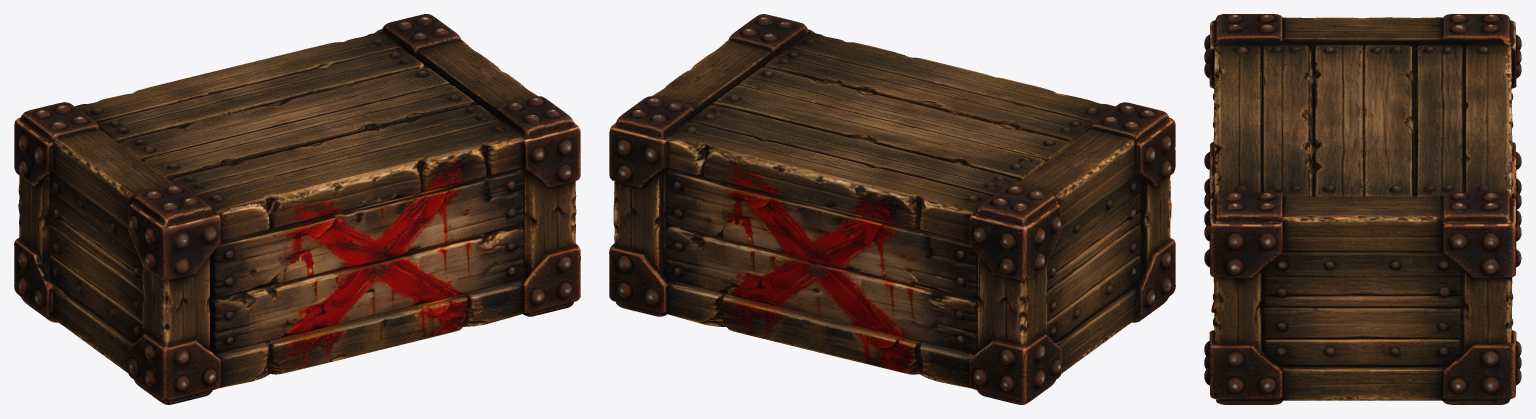
Rendered from intact_split.glb.
3 views of the same model, side by side, from view 1: azimuth 30°, elevation 25°; view 2: azimuth 150°, elevation 25°; view 3: azimuth 270°, elevation 25° (orthographic).
Visible parts, largest first — view 1: Mesh_0; view 2: Mesh_0; view 3: Mesh_0.
Boxes of the visible parts, box(x1,y1,x2,y2) form: Mesh_0: box(14, 14, 580, 404); Mesh_0: box(609, 14, 1175, 404); Mesh_0: box(1204, 14, 1521, 404).
Bounding box in the file's own units: 0.9962 × 0.4372 × 0.6334.
2 materials, 2 textured.
